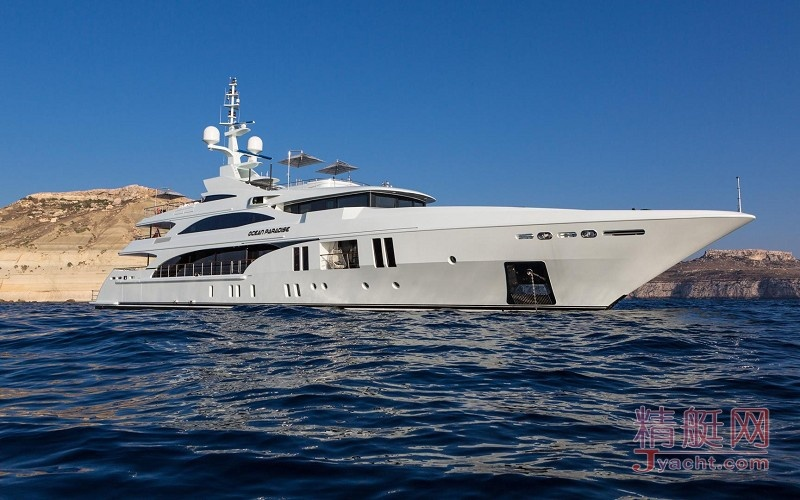yacht: (95, 66, 740, 315)
